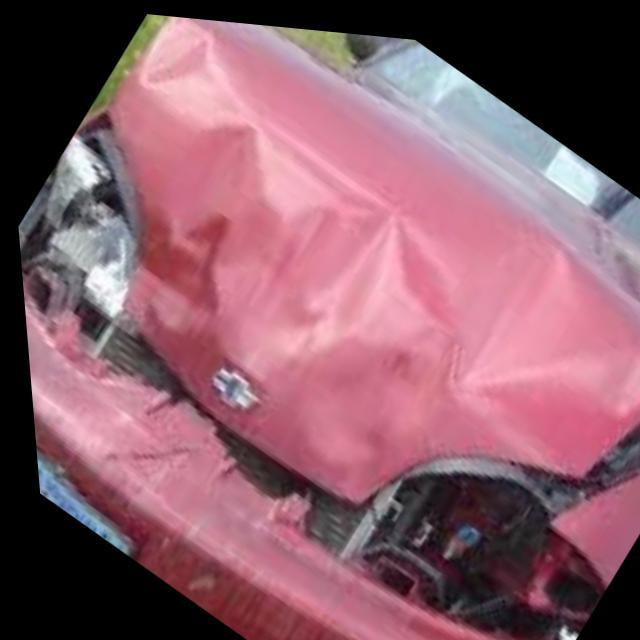dislocated part: (14, 13, 640, 640)
